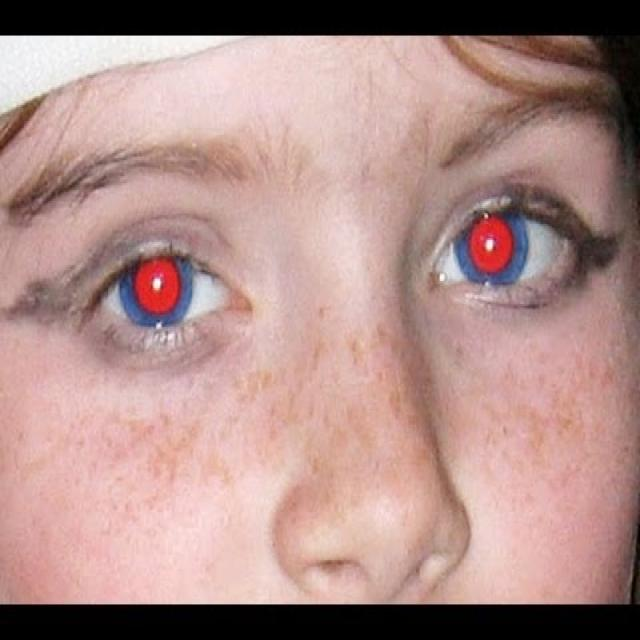reflexo-normal: (448, 197, 539, 305), (111, 243, 200, 339)
